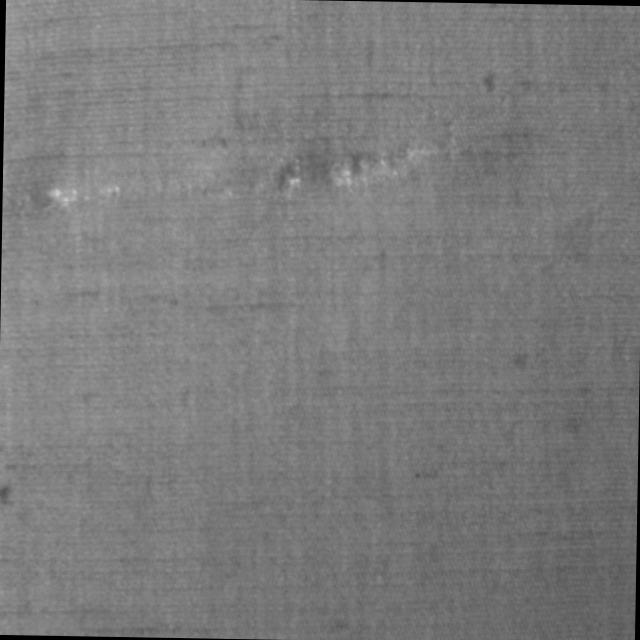thread error: (29, 133, 450, 230)
